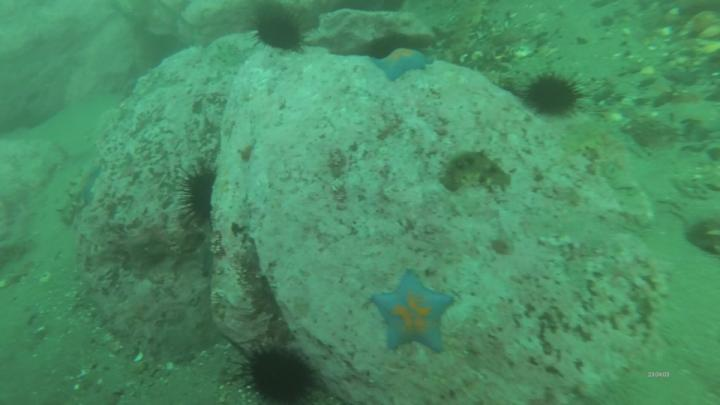echinus: (248, 355, 314, 405), (529, 77, 578, 113), (258, 18, 301, 51), (184, 177, 213, 216)
holothurian: (442, 150, 510, 192), (564, 122, 611, 154), (63, 174, 83, 223), (453, 14, 473, 53)
scallop: (515, 45, 532, 57)
starfish: (373, 273, 452, 356), (375, 49, 434, 82)
